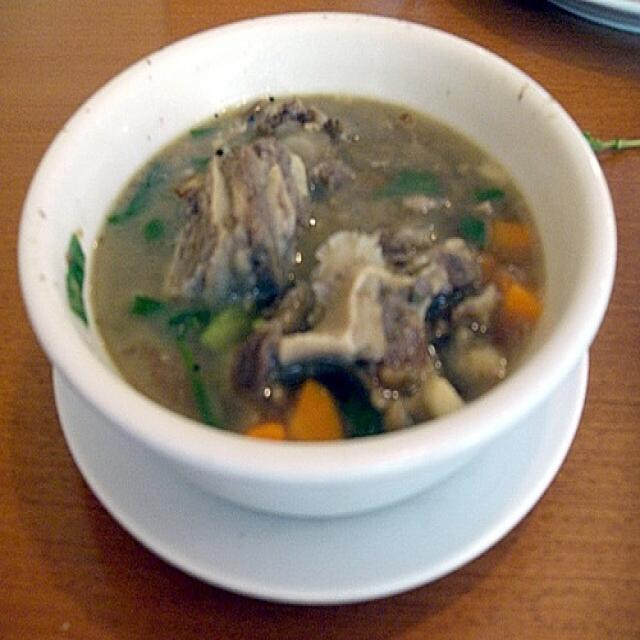汤锅炖物: (27, 24, 613, 623)
